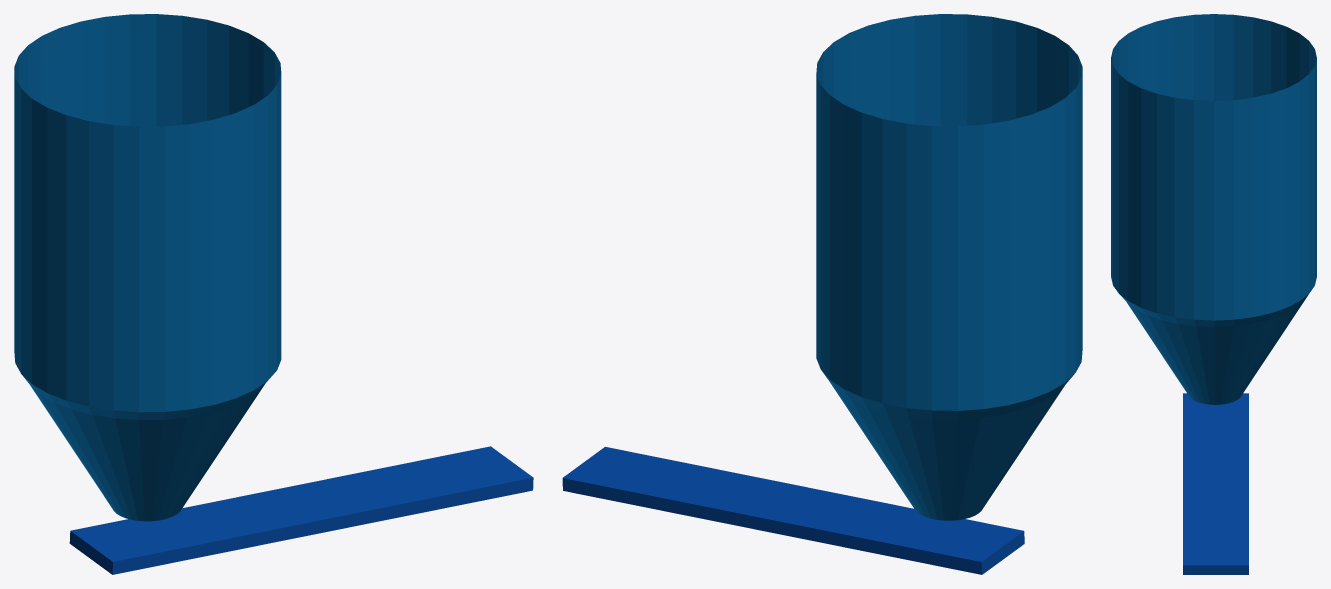
File: afb.obj
3 renders of one model, left to right at view 1: azimuth 30°, elevation 25°; view 2: azimuth 150°, elevation 25°; view 3: azimuth 270°, elevation 25°, orthographic. The views are drawn at different scales.
Visible parts, largest first — view 1: Cylinder_Cylinder.002, Cube; view 2: Cylinder_Cylinder.002, Cube; view 3: Cylinder_Cylinder.002, Cube.
Boxes of the visible parts, x1,y1,x2,y2 form: Cylinder_Cylinder.002: (14, 14, 281, 521); Cube: (69, 446, 533, 574); Cylinder_Cylinder.002: (816, 14, 1082, 520); Cube: (562, 446, 1024, 574); Cylinder_Cylinder.002: (1111, 14, 1316, 404); Cube: (1183, 393, 1248, 574).
Bounding box in the file's own units: 12.99 × 12.75 × 6.25.
